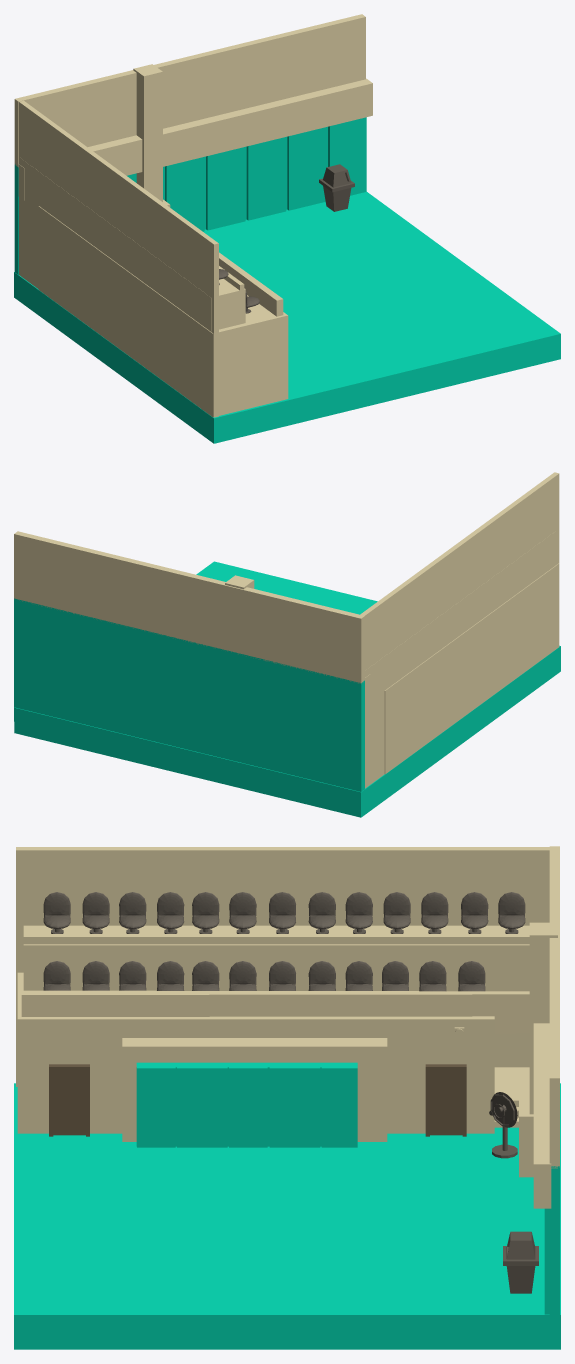
Rendered from Room_7.fbx.
3 renders of one model, top to bottom at view 1: azimuth 30°, elevation 25°; view 2: azimuth 150°, elevation 25°; view 3: azimuth 270°, elevation 25°, orthographic. The views are drawn at different scales.
Parts seen in each view (by area): view 1: pCube71; view 2: pCube71; view 3: pCube71.
Part boxes in pixels (bbox=[...]): pCube71: bbox=[14, 14, 560, 443]; pCube71: bbox=[14, 472, 560, 817]; pCube71: bbox=[14, 846, 560, 1349].
Size of the model in its own units: 13.49 by 7.41 by 13.39.
